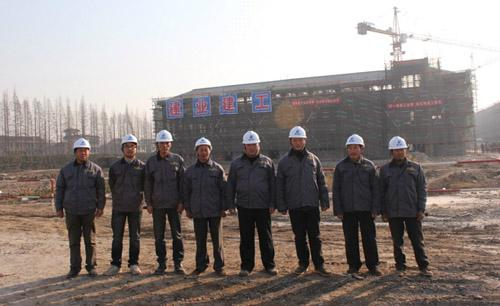helmet: (389, 137, 407, 151), (346, 135, 366, 147), (243, 132, 261, 145), (290, 127, 307, 140), (157, 131, 173, 143), (196, 138, 212, 150), (74, 139, 91, 150), (121, 135, 138, 146)
